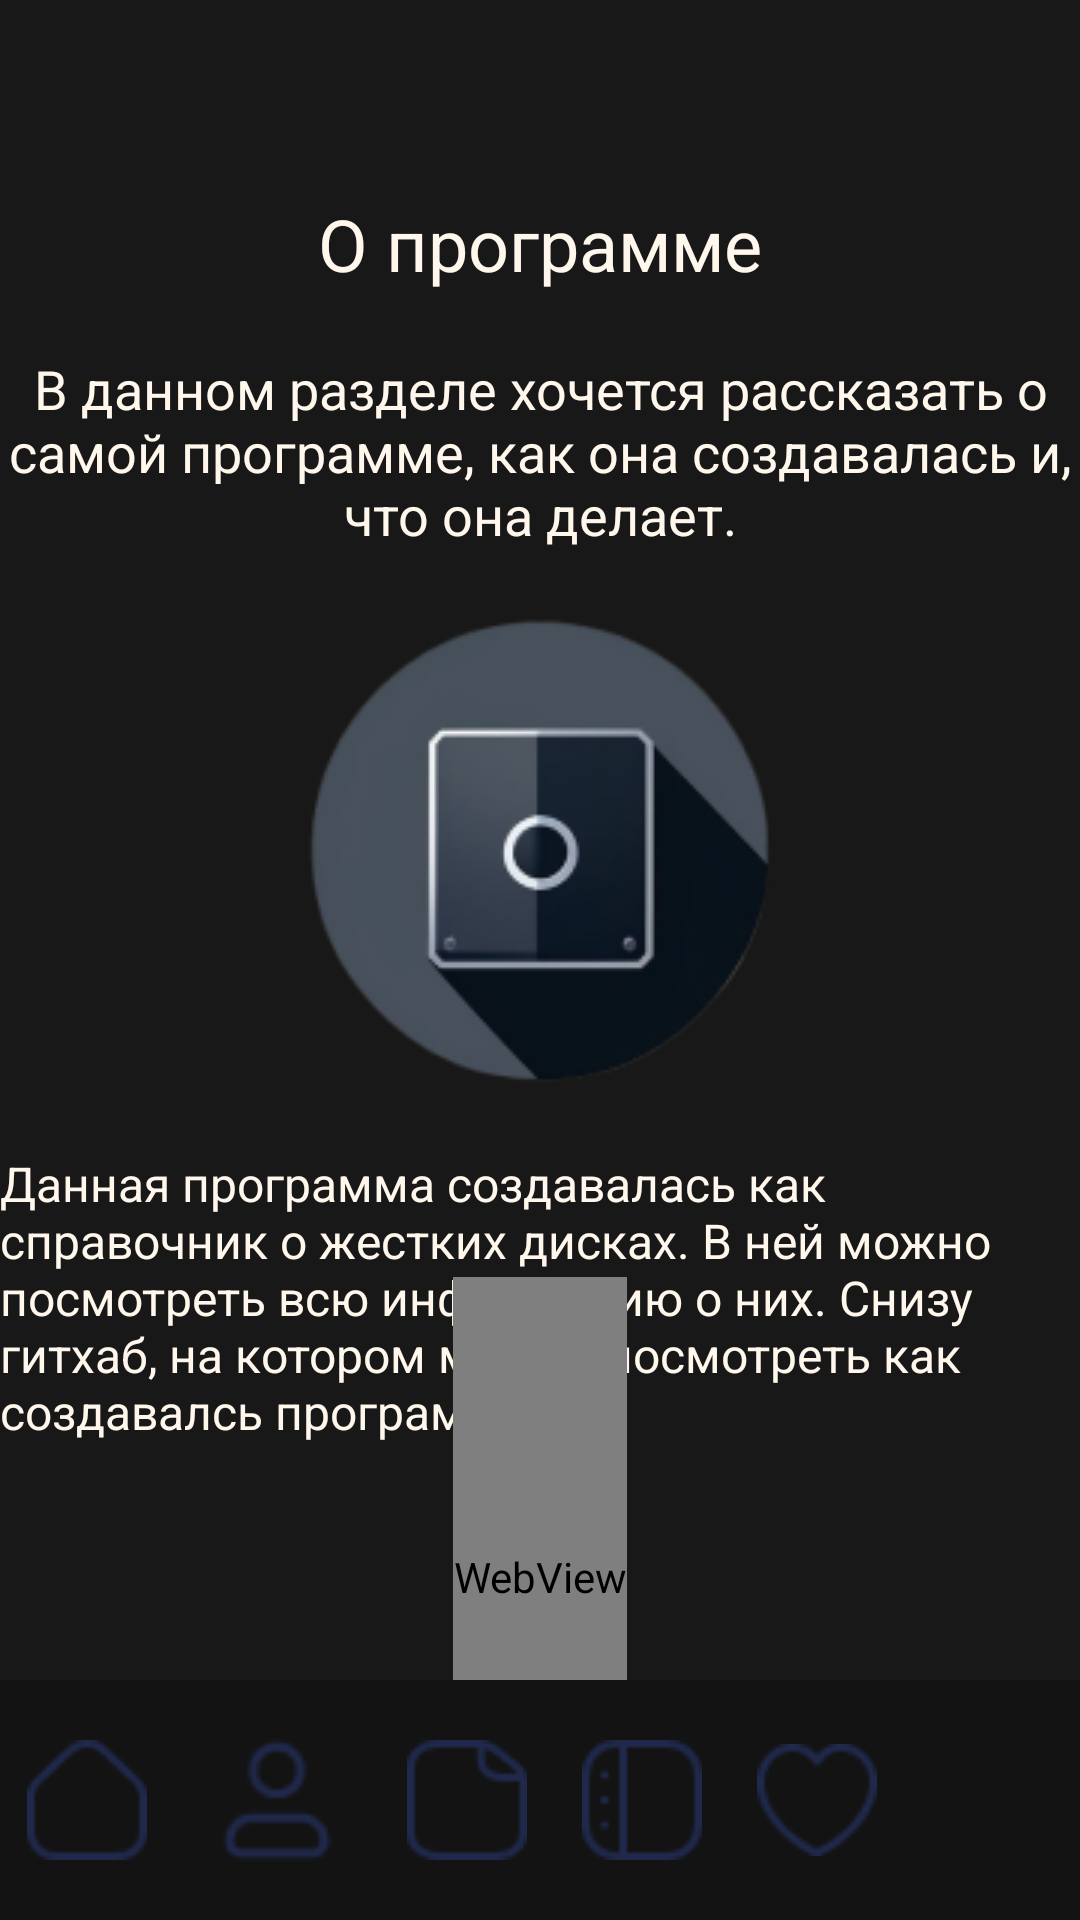

Icons on this 1080w x 1920h Android screen, each with the point to tap as (x=x, y=y):
favourites: (x=817, y=1800)
user: (x=277, y=1800)
